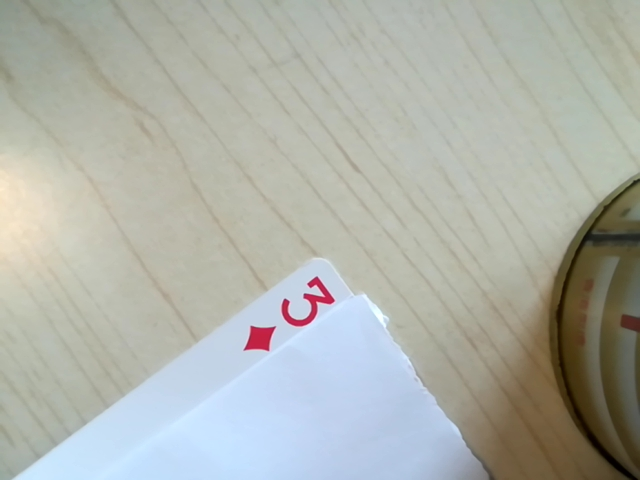fk 3: (239, 275, 345, 352)
